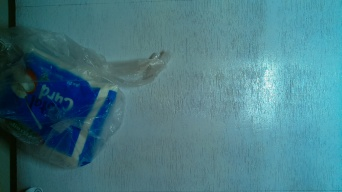m: (2, 38, 120, 175)
